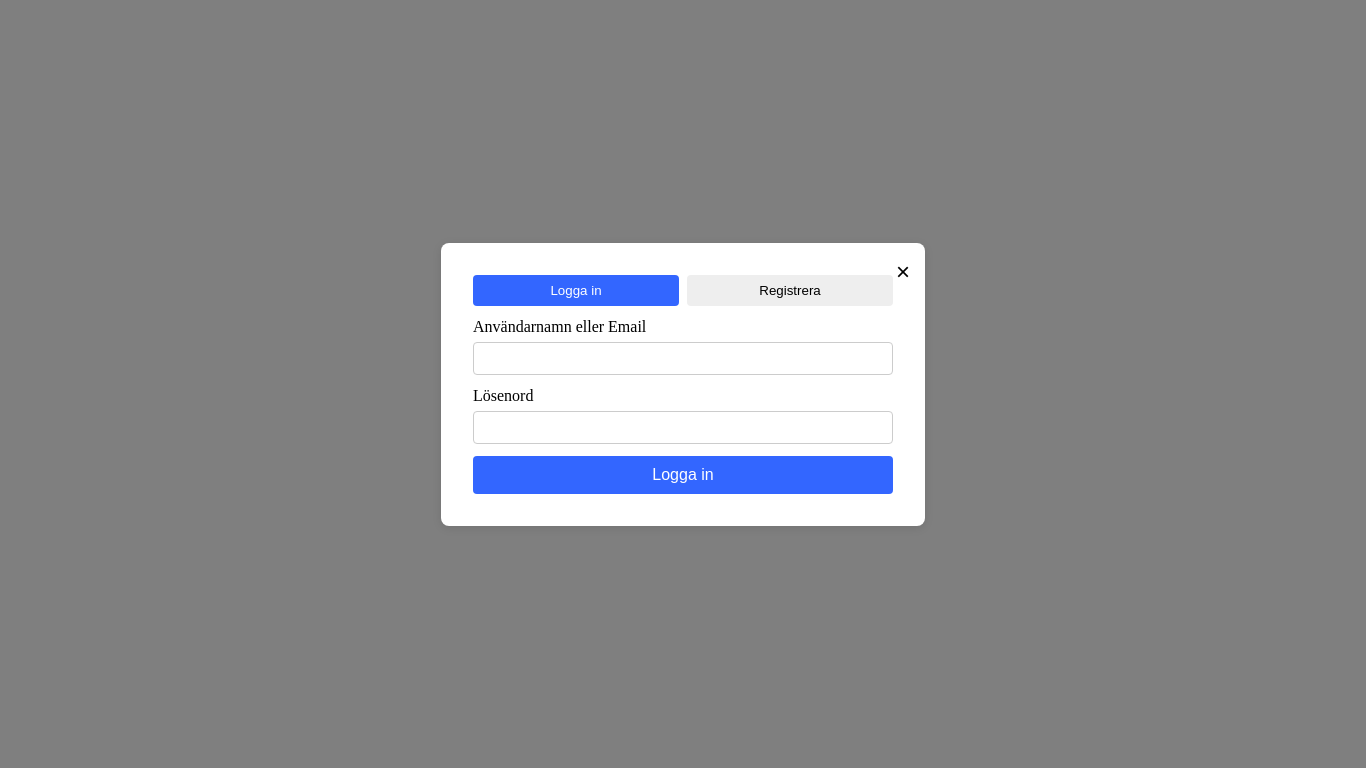
Test: LoginForm - Kan man logga in? › ska visa felmeddelande vid fel lösenord
Step 1. Type "testuser" into the field labelled "Användarnamn eller Email" → x=683, y=359, box [473, 342, 893, 375]
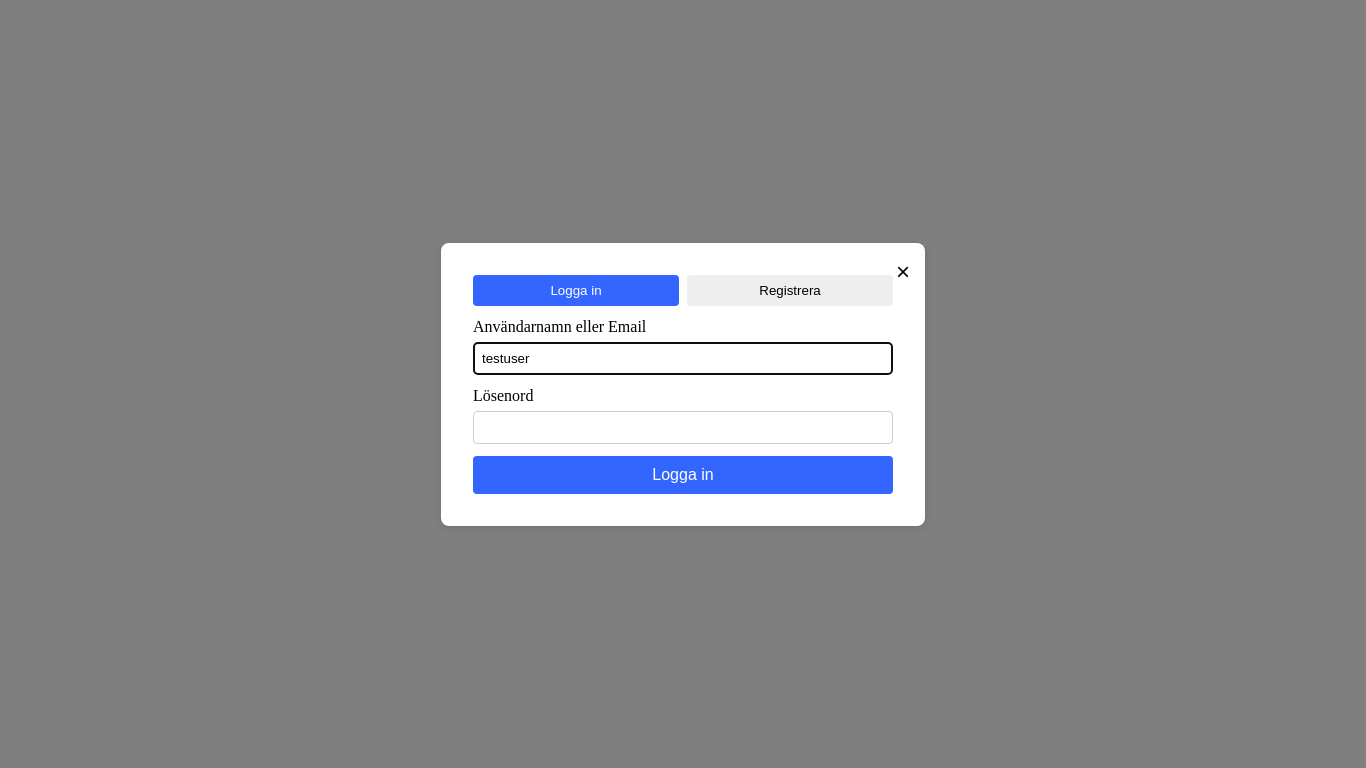
Step 2. Type "wrongpass" into the password field labelled "Lösenord" → x=683, y=428, box [473, 411, 893, 444]
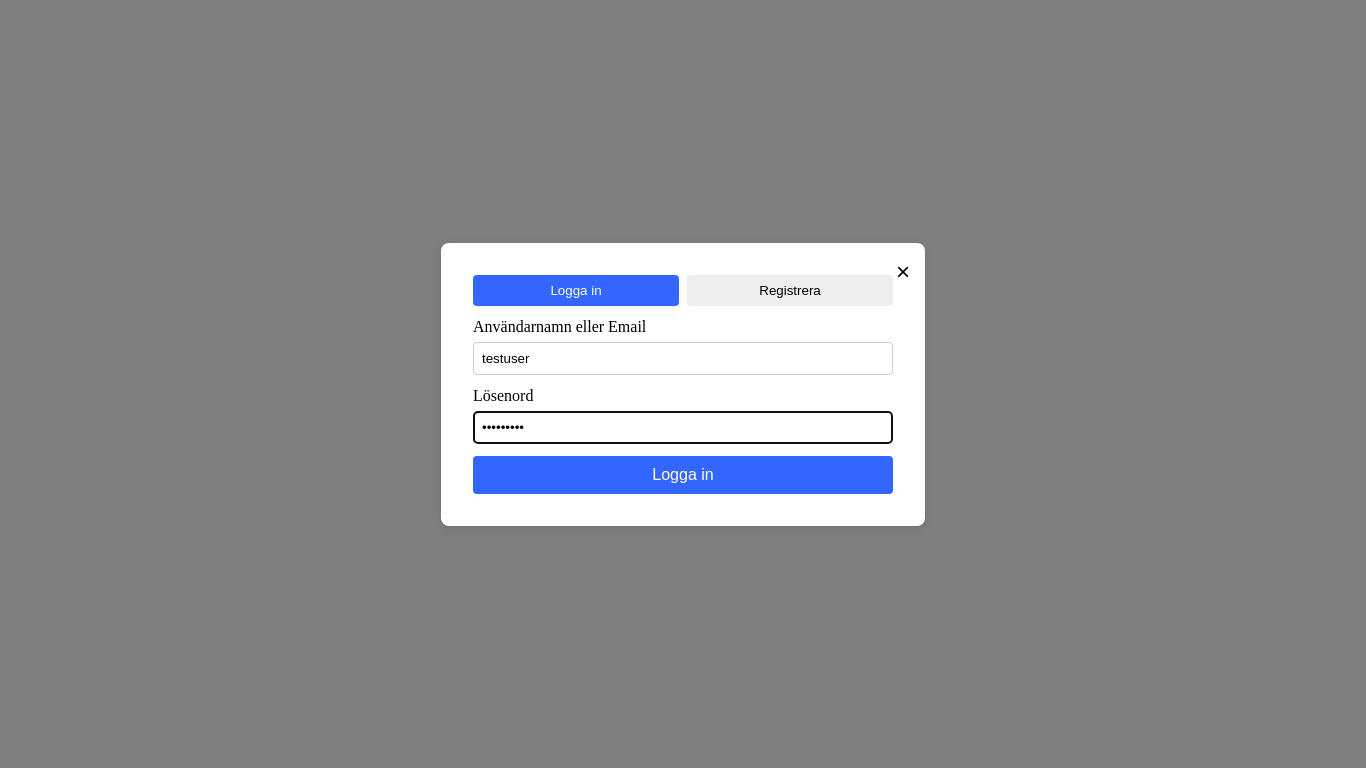
Step 3. Click the submit button → x=683, y=475, box [473, 456, 893, 494]
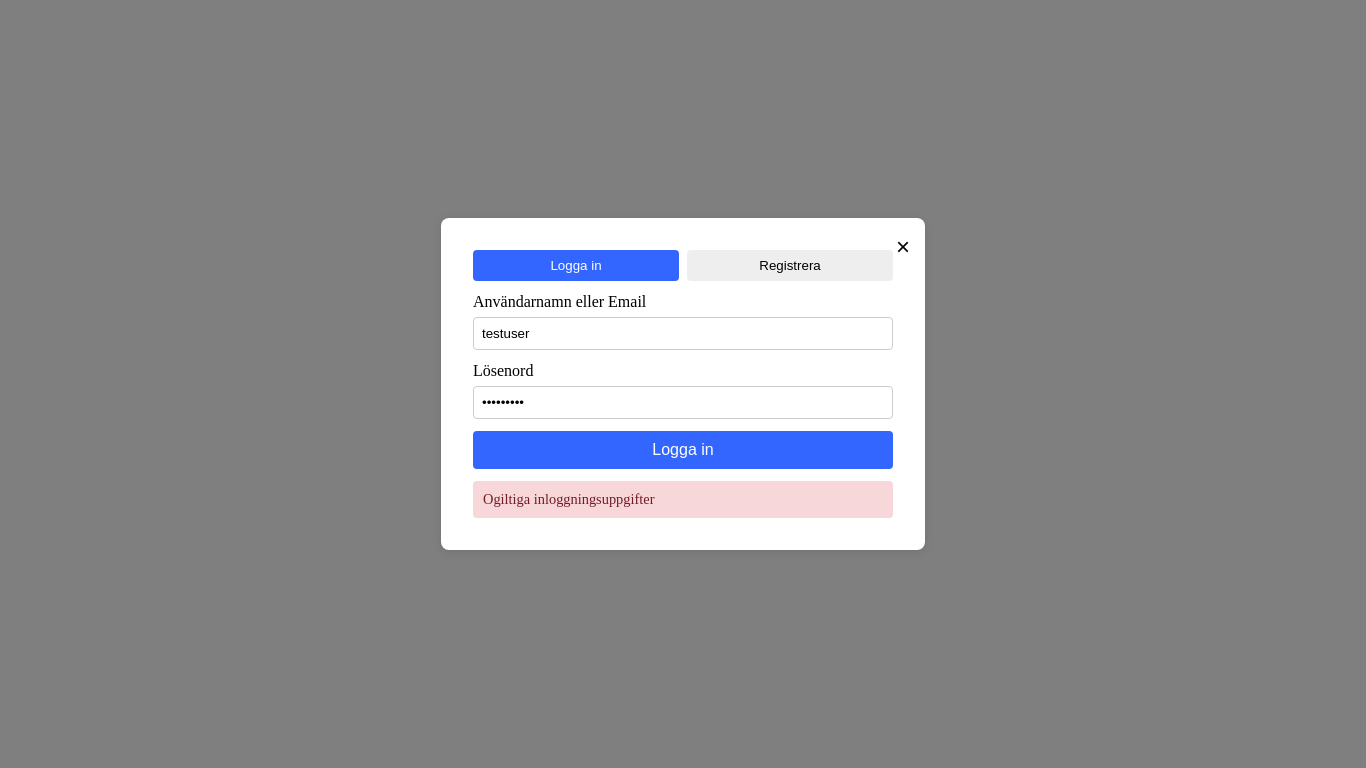
Check: the text "Ogiltiga inloggningsuppgifter" is shown, box [473, 481, 893, 518]
